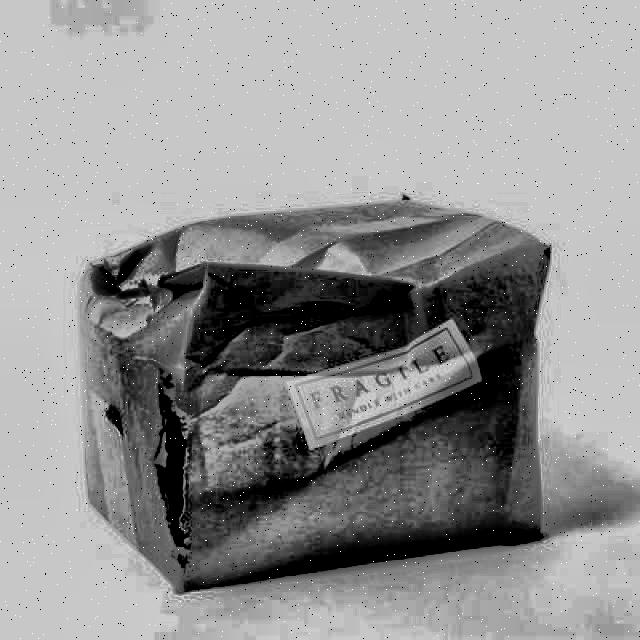box: (52, 190, 583, 613)
hole: (140, 359, 204, 557)
